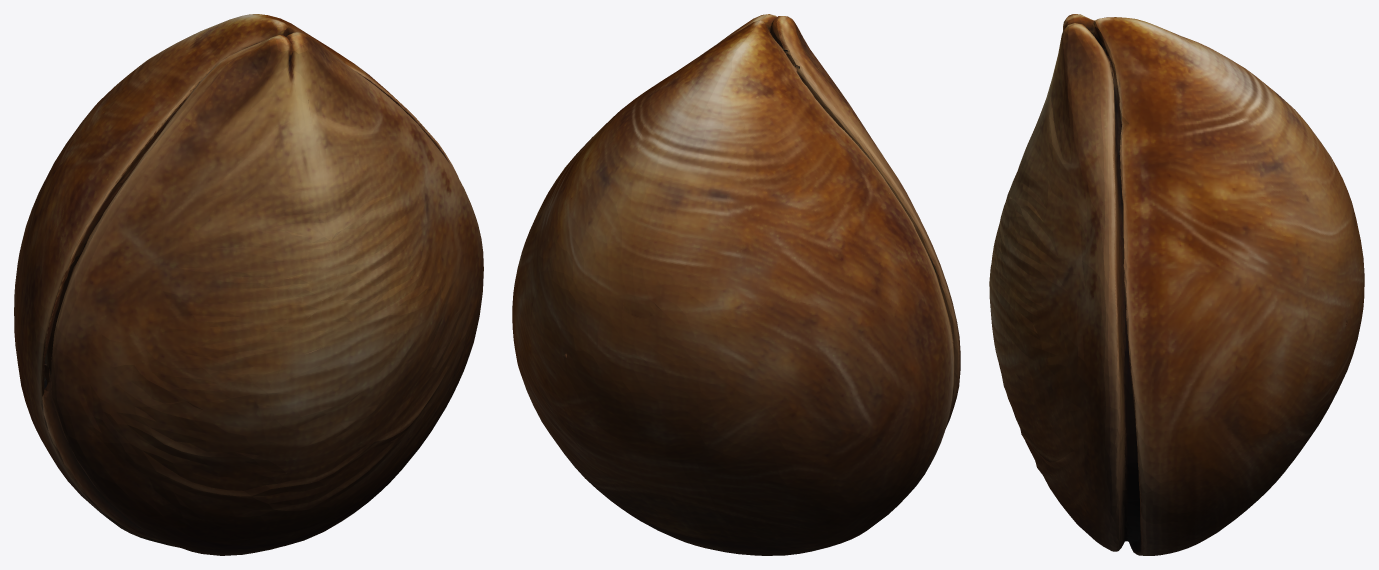
3 renders of one model, left to right at view 1: azimuth 30°, elevation 25°; view 2: azimuth 150°, elevation 25°; view 3: azimuth 270°, elevation 25°, orthographic. The views are drawn at different scales.
Visible parts, largest first — view 1: world; view 2: world; view 3: world.
Part boxes in pixels (x1,y1,x2,y2): world: (14,14,483,555); world: (512,14,960,555); world: (989,14,1364,555).
Size of the model in its own units: 0.0172 by 0.02 by 0.0132.
1 material, 1 textured.
